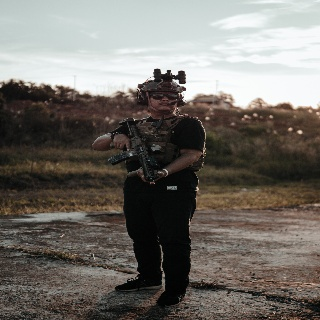rifle: (108, 117, 160, 183)
